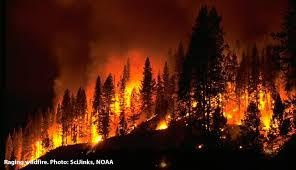fire: (155, 76, 294, 150)
